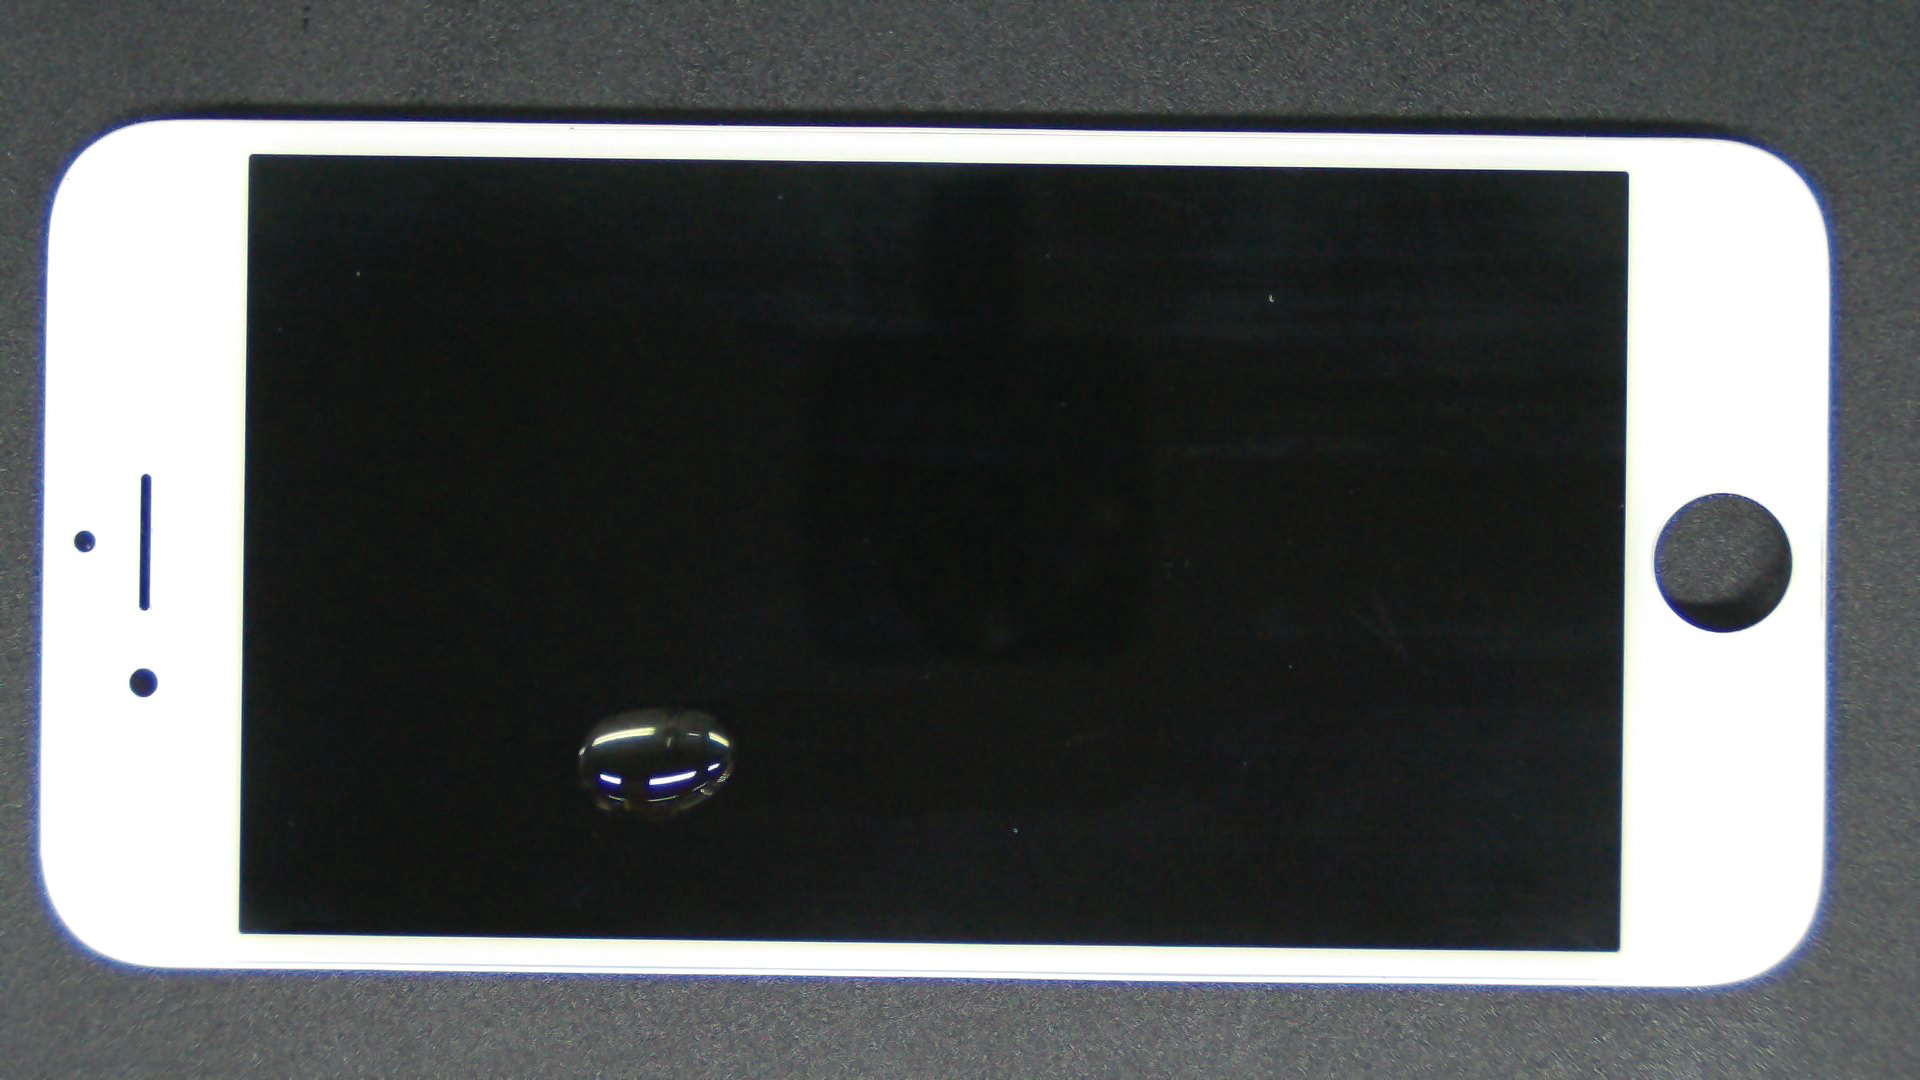defect: (578, 707, 736, 818)
